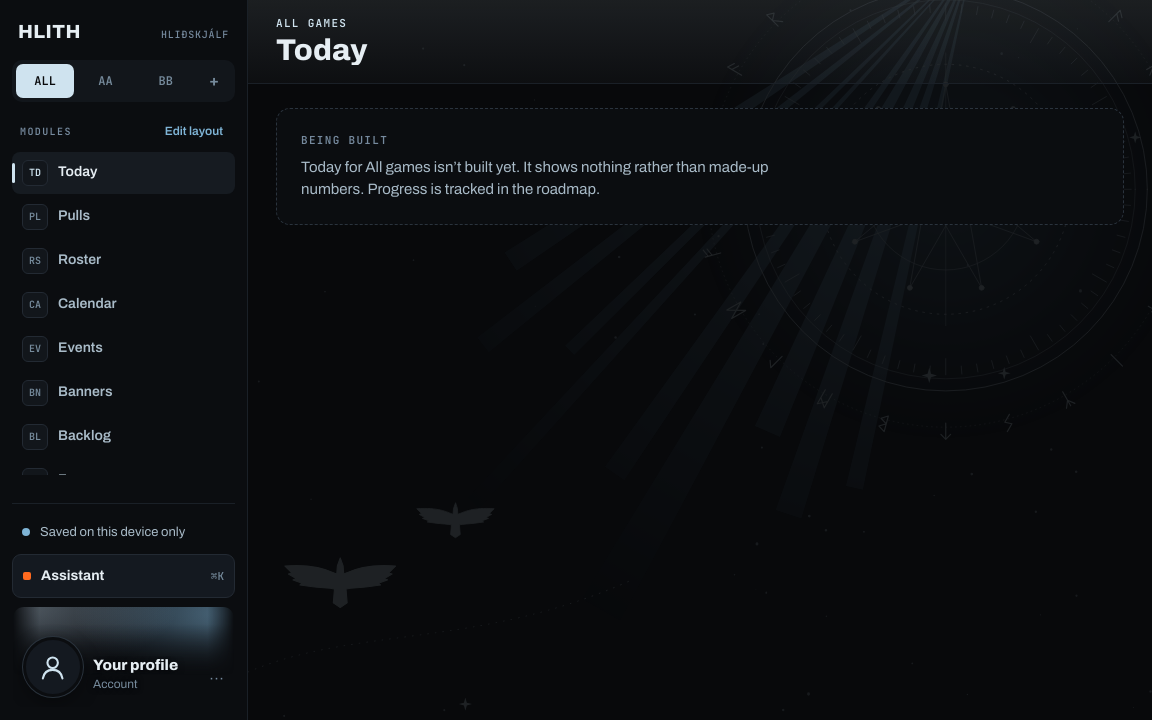
Test: Shell › PC sidebar: MODULES with Edit layout beside it, sync line, Assistant and Account
Expected: the text "MODULES" is shown, [20,126,72,136]
Expected: the button "Edit layout" is shown, [157,118,231,146]
Click the button "Your profile Account ···" at (124, 657), box [12,606,235,708]
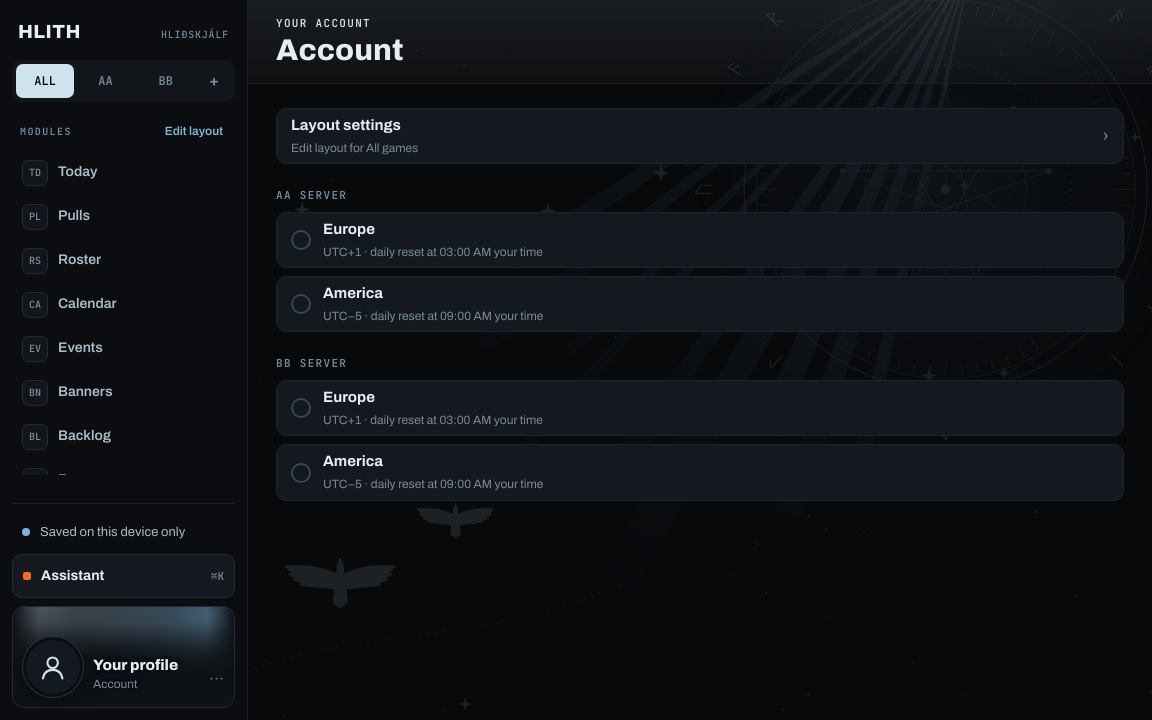
Expected: the heading "Account" is shown, [276,34,404,66]
